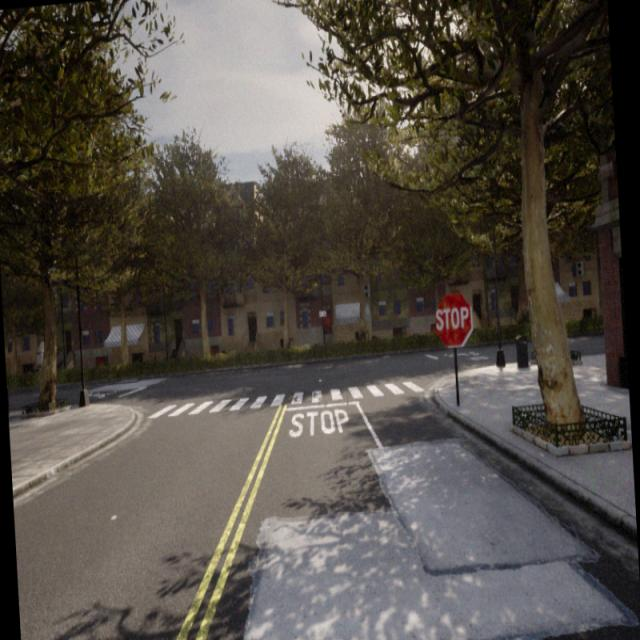stop sign: (432, 289, 474, 349), (434, 304, 470, 332)
